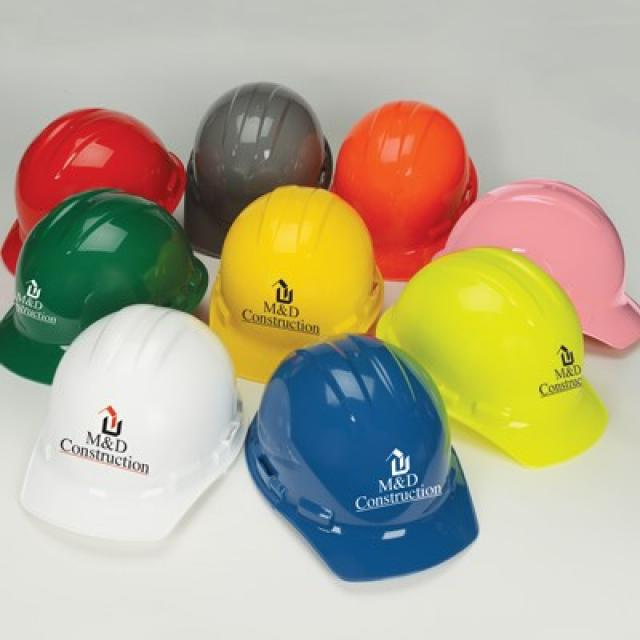Safety-Helmet: (16, 300, 259, 598), (242, 334, 484, 588), (370, 247, 611, 468), (0, 180, 209, 390), (433, 169, 640, 340), (186, 79, 356, 257), (208, 180, 387, 338), (329, 96, 482, 274), (5, 101, 189, 240)
